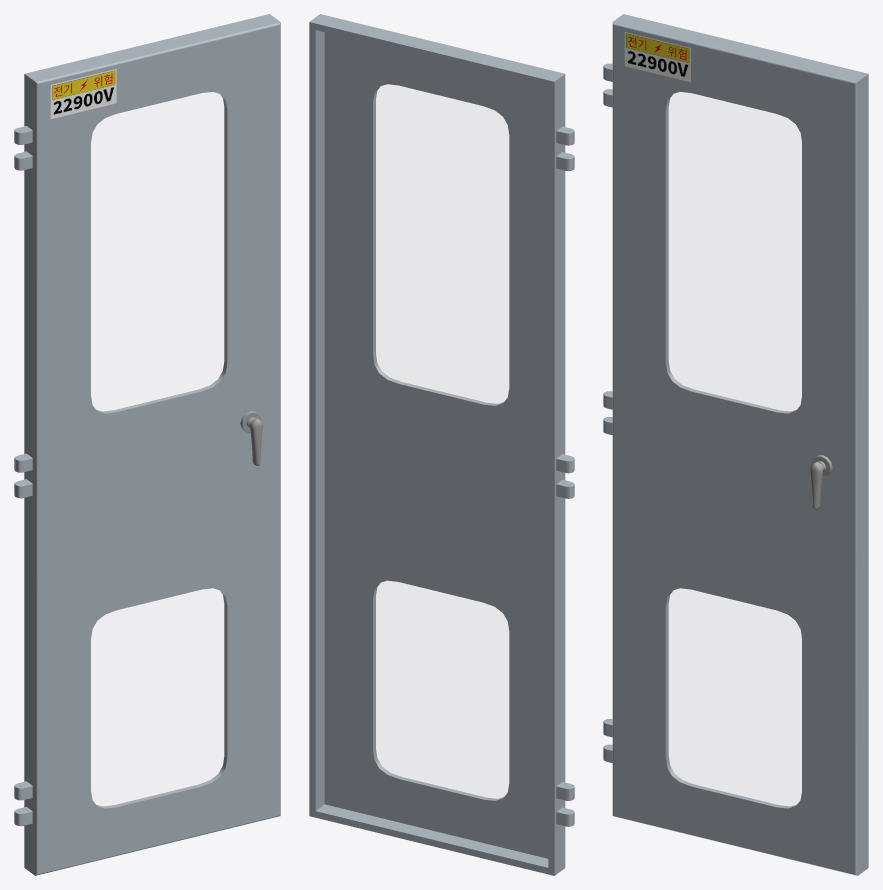
The model's file is LBS_FRONT_DOOR.fbx.
The picture shows the model from 3 angles, left to right: view 1: azimuth 30°, elevation 25°; view 2: azimuth 150°, elevation 25°; view 3: azimuth 330°, elevation 25°; orthographic projection.
Parts seen in each view (by area): view 1: LPS_FRONT_DOOR; view 2: LPS_FRONT_DOOR; view 3: LPS_FRONT_DOOR.
Part boxes in pixels (x1,y1,x2,y2): LPS_FRONT_DOOR: [14, 14, 280, 875]; LPS_FRONT_DOOR: [309, 14, 574, 875]; LPS_FRONT_DOOR: [603, 14, 868, 875].
Bounding box in the file's own units: 0.6334 × 1.85 × 0.0934.
3 materials, 2 textured.
